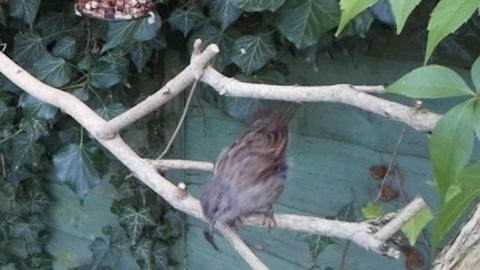dunnock: (199, 100, 304, 234)
